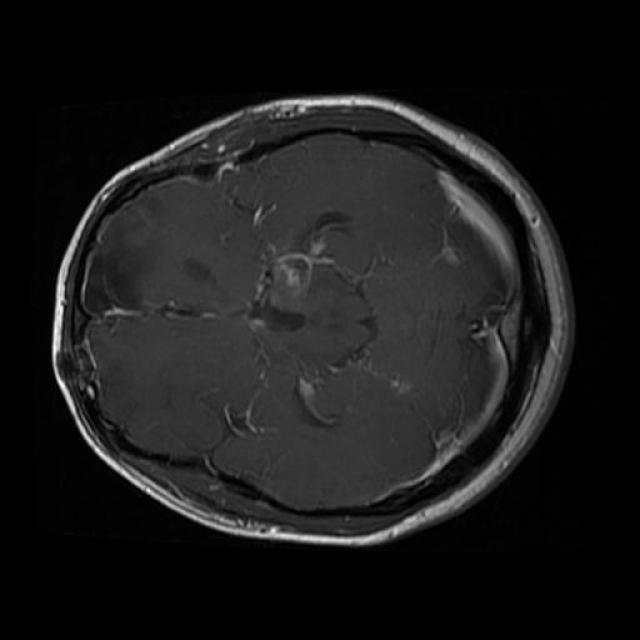Glioma: (88, 214, 145, 316)
